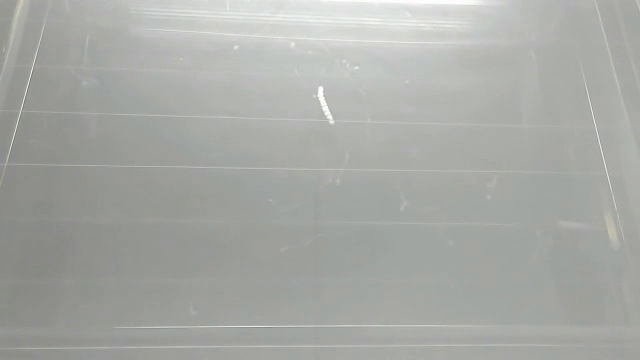alpha: (314, 82, 342, 129), (553, 215, 598, 233)
